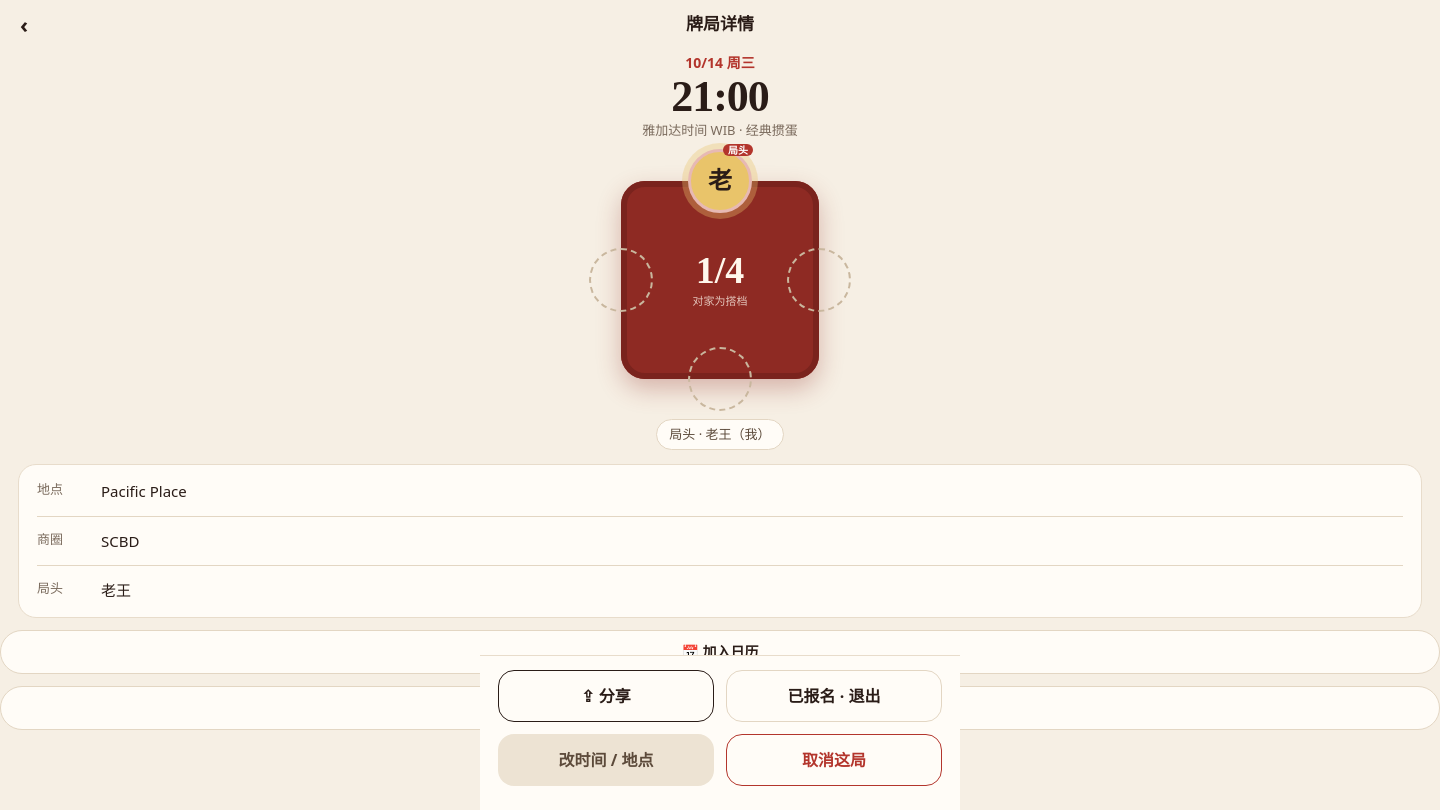
Test case: 加入日历 › 微信里：不给下载，提示跳到浏览器
The width and height of the screenshot is (1440, 810).
Click the button "📅 加入日历". click: (720, 652)
box: x1=0 y1=630 x2=1439 y2=674
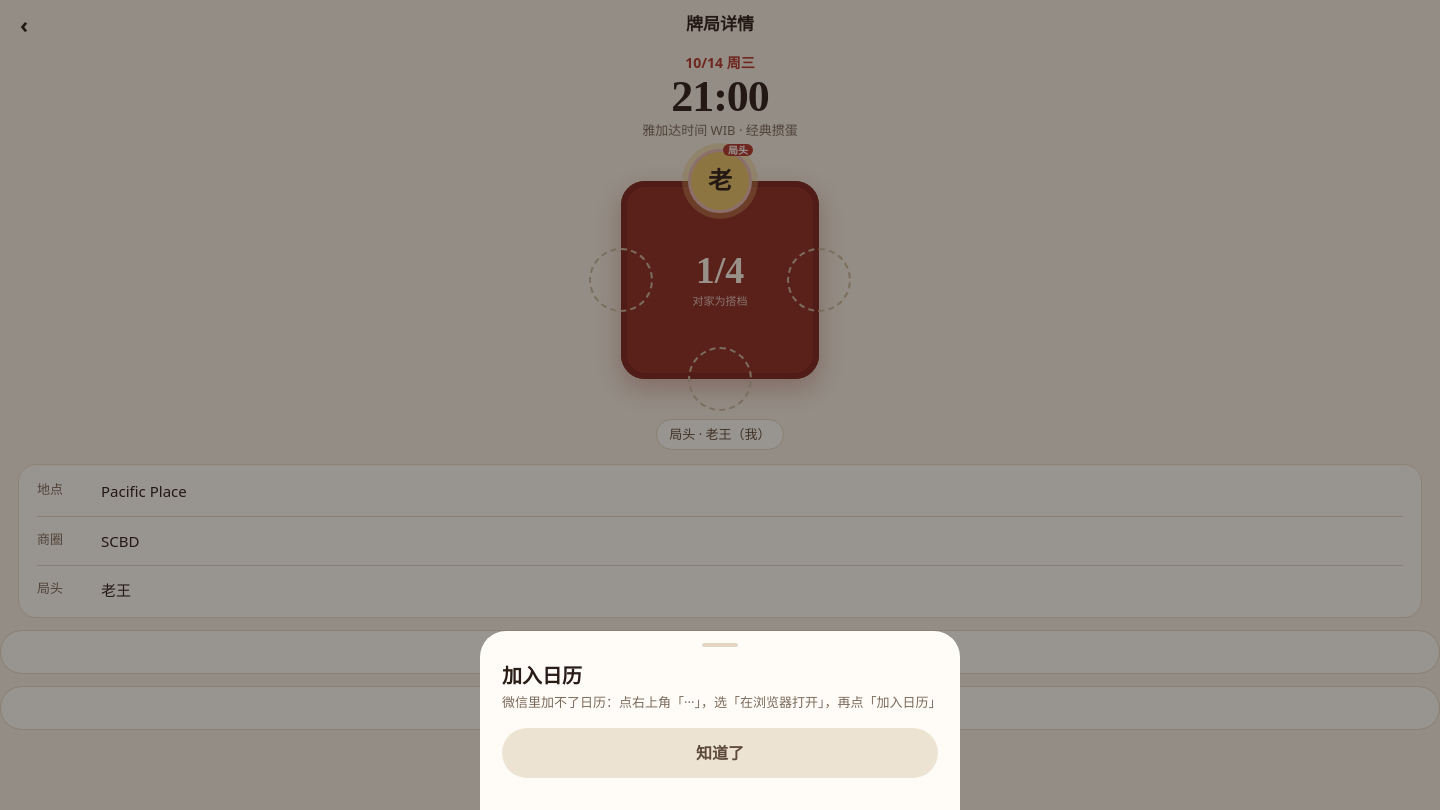
Check: the text "微信里加不了日历：点右上角「···」，选「在浏览器打开」，再点「加入日历」" is shown, box x1=502 y1=692 x2=938 y2=712
Check: the text "在浏览器打开" is shown, box x1=502 y1=692 x2=942 y2=710
